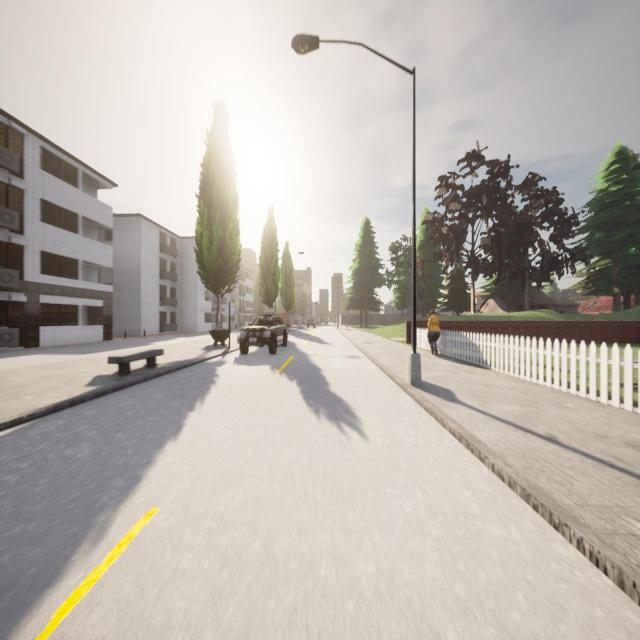Pedestrian: (428, 309, 440, 355)
Vehicle: (238, 312, 288, 356), (307, 319, 316, 330)
